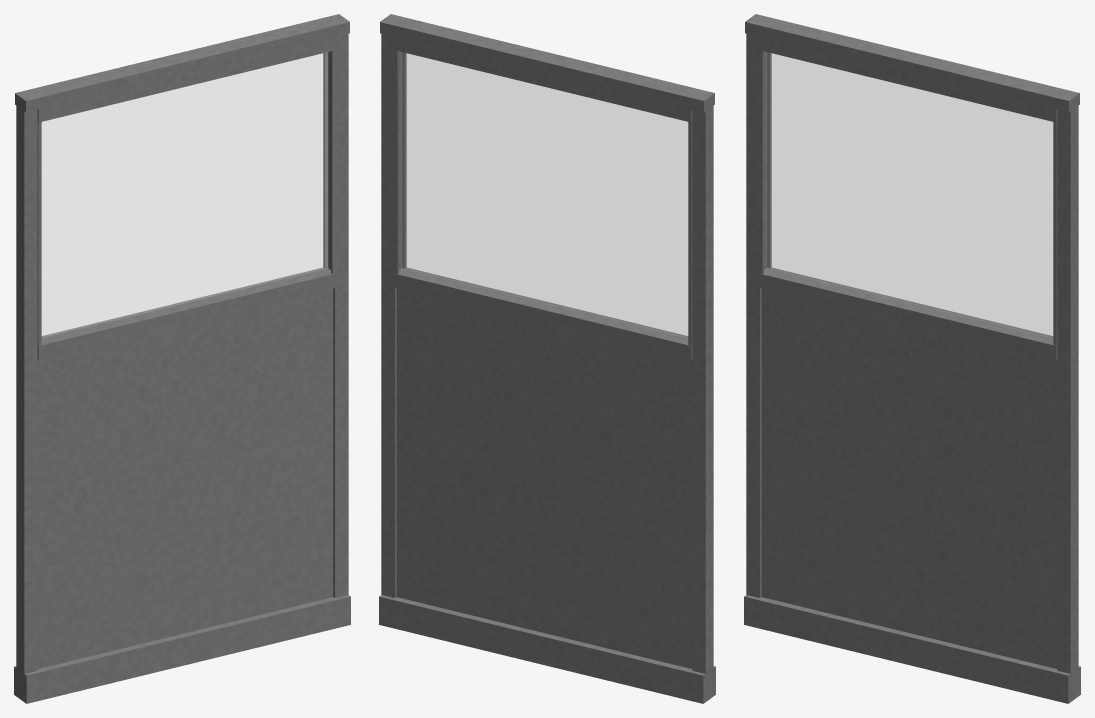
File: X14_PART_Panel_Glazed_120.glb
The picture shows the model from 3 angles, left to right: view 1: azimuth 30°, elevation 25°; view 2: azimuth 150°, elevation 25°; view 3: azimuth 330°, elevation 25°; orthographic projection.
Visible parts, largest first — view 1: X14_PART_Panel_Glazed_120_LOD0, X14_PART_Panel_Glazed_120_Glass_LOD0; view 2: X14_PART_Panel_Glazed_120_LOD0, X14_PART_Panel_Glazed_120_Glass_LOD0; view 3: X14_PART_Panel_Glazed_120_LOD0, X14_PART_Panel_Glazed_120_Glass_LOD0.
Part boxes in pixels (x1=…): X14_PART_Panel_Glazed_120_LOD0: x1=14, y1=14, x2=350, y2=703; X14_PART_Panel_Glazed_120_Glass_LOD0: x1=42, y1=52, x2=328, y2=337; X14_PART_Panel_Glazed_120_LOD0: x1=379, y1=14, x2=715, y2=703; X14_PART_Panel_Glazed_120_Glass_LOD0: x1=401, y1=52, x2=687, y2=337; X14_PART_Panel_Glazed_120_LOD0: x1=744, y1=14, x2=1080, y2=703; X14_PART_Panel_Glazed_120_Glass_LOD0: x1=766, y1=52, x2=1052, y2=337.
Size of what is drawn, in the model's own units: 1.2 by 2.13 by 0.08.
Materials: 2 (1 with a texture image).
